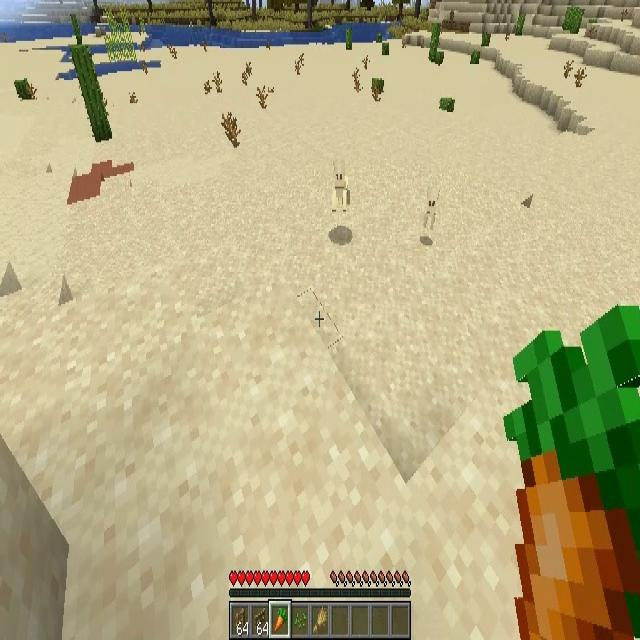rabbit: (332, 156, 350, 214), (424, 185, 440, 237)
